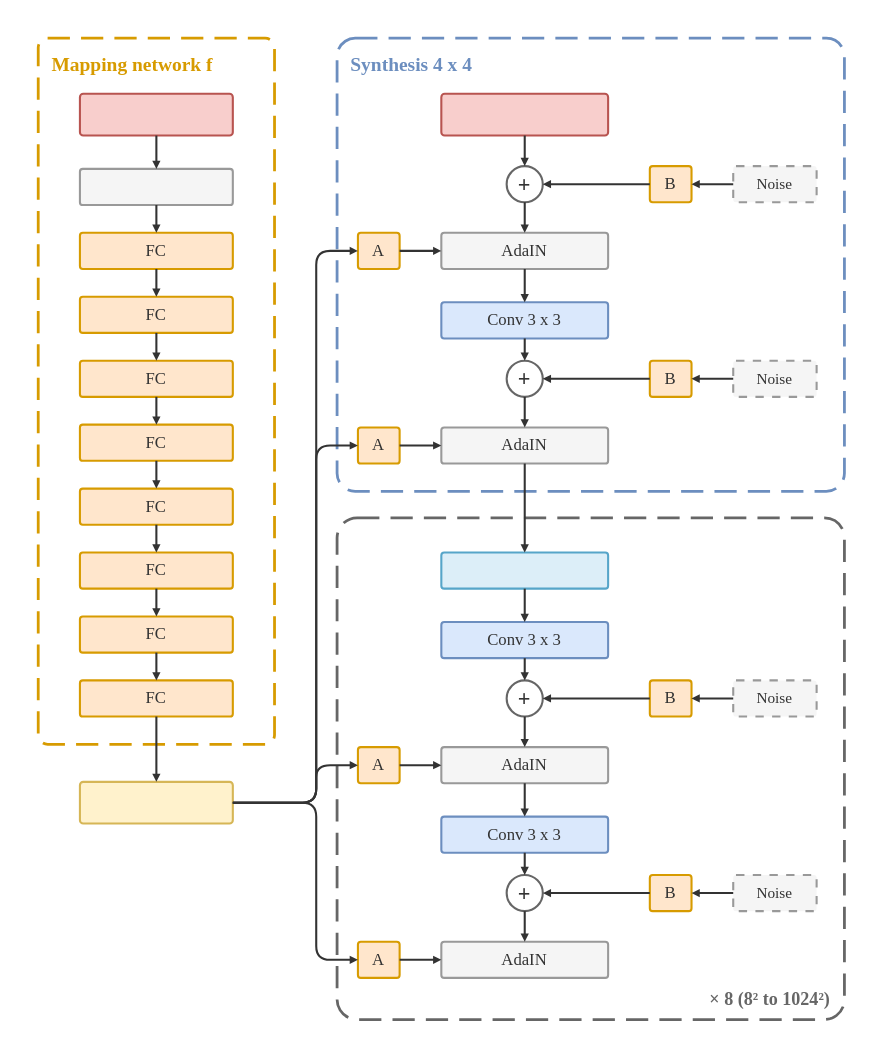
The diagram is 881 pixels wide and 1056 high, and some of its shapes have lost their labels. The centre of each missing label's shape, as x and y in pixels:
"Const 4 x 4 x 512" goes at (x=524, y=114).
"Latent z ∈ Z" goes at (x=155, y=114).
"Normalize" goes at (x=155, y=186).
"Upsample" goes at (x=524, y=570).
"w ∈ W" goes at (x=155, y=802).
